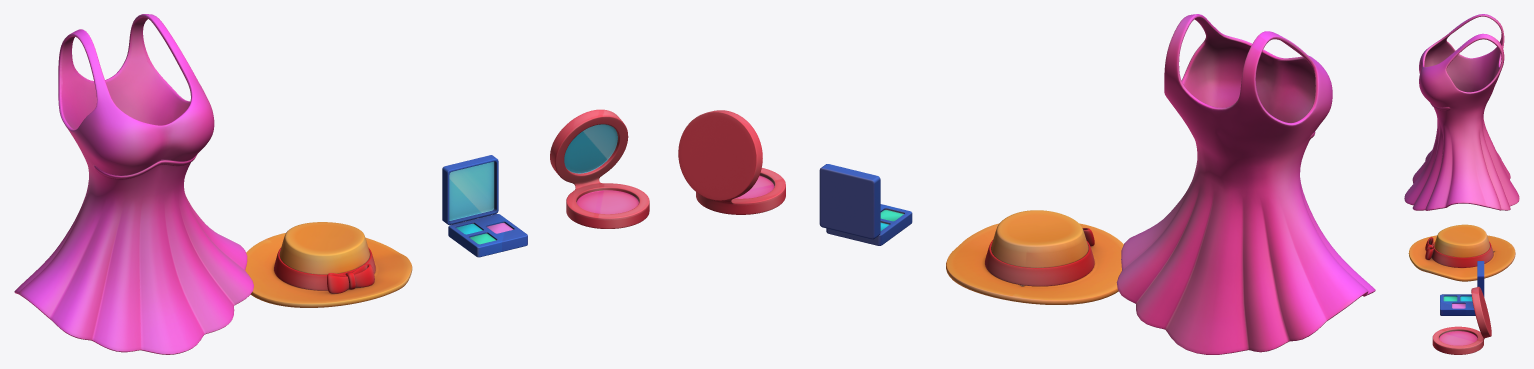
File: Props Set_1.fbx
3 views of the same model, side by side, from view 1: azimuth 30°, elevation 25°; view 2: azimuth 150°, elevation 25°; view 3: azimuth 270°, elevation 25° (orthographic). The views are drawn at different scales.
Visible parts, largest first — view 1: dress_set_1_prop_Hi, hat_set_1_prop3_Hi, round_mirror_set_1_prop1_Hi, square_mirror_set_1_prop2_Hi; view 2: dress_set_1_prop_Hi, hat_set_1_prop3_Hi, round_mirror_set_1_prop1_Hi, square_mirror_set_1_prop2_Hi; view 3: dress_set_1_prop_Hi, hat_set_1_prop3_Hi, round_mirror_set_1_prop1_Hi, square_mirror_set_1_prop2_Hi.
Boxes of the visible parts, x1,y1,x2,y2 form: dress_set_1_prop_Hi: [14, 14, 253, 354]; hat_set_1_prop3_Hi: [245, 222, 412, 307]; round_mirror_set_1_prop1_Hi: [550, 109, 649, 228]; square_mirror_set_1_prop2_Hi: [442, 155, 527, 257]; dress_set_1_prop_Hi: [1116, 14, 1375, 354]; hat_set_1_prop3_Hi: [946, 210, 1123, 304]; round_mirror_set_1_prop1_Hi: [678, 110, 785, 214]; square_mirror_set_1_prop2_Hi: [819, 164, 912, 245]; dress_set_1_prop_Hi: [1404, 14, 1519, 210]; hat_set_1_prop3_Hi: [1408, 224, 1515, 281]; round_mirror_set_1_prop1_Hi: [1432, 286, 1491, 354]; square_mirror_set_1_prop2_Hi: [1440, 261, 1484, 315].
Bounding box in the file's own units: 37.59 × 16.88 × 9.87.
Materials: 1 (1 with a texture image).
